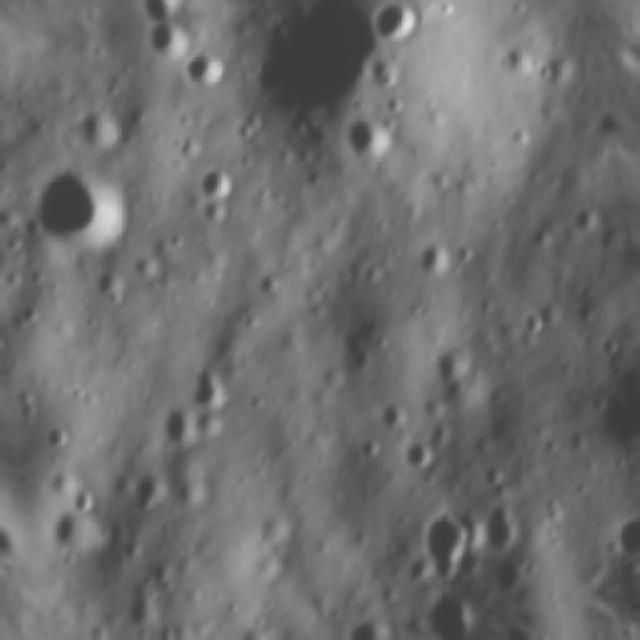crater: (240, 0, 398, 126), (21, 153, 139, 264), (592, 366, 640, 462), (413, 506, 478, 574), (336, 112, 401, 172), (472, 494, 530, 552), (175, 46, 228, 100), (74, 96, 126, 149), (47, 507, 95, 564), (368, 0, 427, 45), (116, 586, 167, 637), (84, 260, 134, 311), (491, 40, 543, 89), (185, 362, 232, 415), (156, 403, 204, 454), (139, 20, 192, 66), (400, 429, 445, 477), (193, 162, 241, 206), (128, 464, 170, 514), (536, 48, 584, 90), (127, 243, 170, 286), (373, 392, 413, 436), (228, 106, 267, 151), (518, 302, 557, 346), (418, 236, 457, 278), (609, 508, 640, 560), (568, 200, 606, 242), (38, 419, 76, 456), (70, 483, 99, 522), (356, 428, 386, 462)
